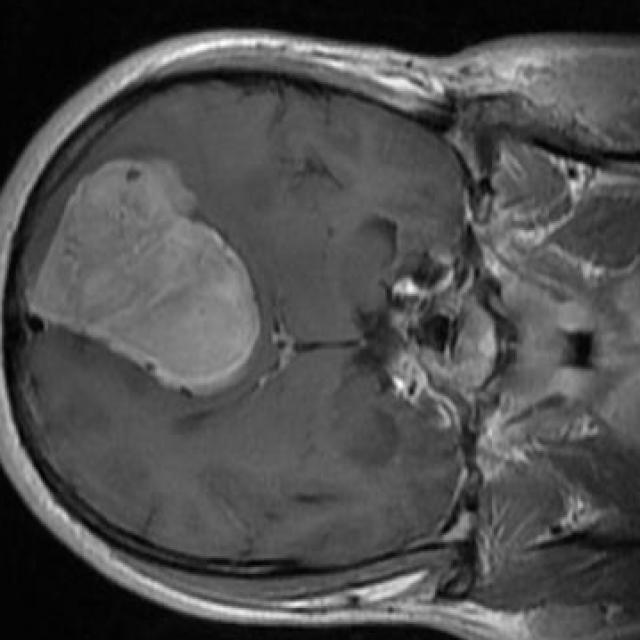meningioma: (32, 159, 262, 396)
